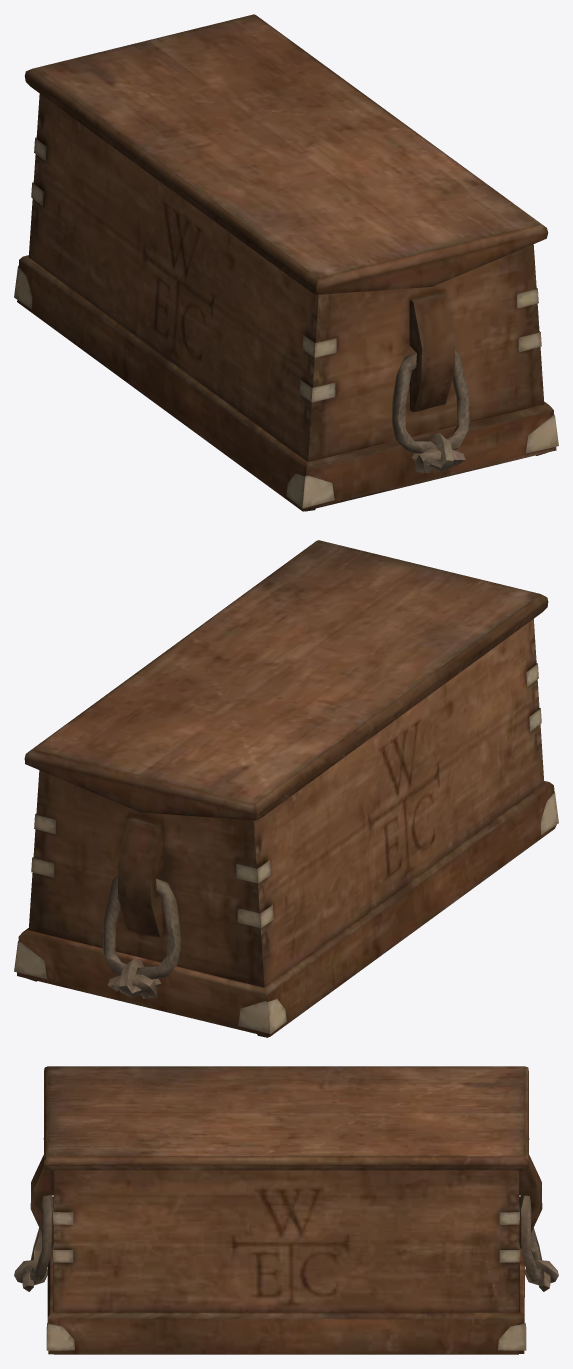
The model's file is crate_b.glb.
3 views of the same model, one above another, from view 1: azimuth 30°, elevation 25°; view 2: azimuth 150°, elevation 25°; view 3: azimuth 270°, elevation 25° (orthographic). The views are drawn at different scales.
Visible parts, largest first — view 1: crate_b; view 2: crate_b; view 3: crate_b.
Part boxes in pixels (<box>): crate_b: <box>14,14,558,511</box>; crate_b: <box>14,540,558,1037</box>; crate_b: <box>14,1066,558,1354</box>.
Bounding box in the file's own units: 0.5274 × 0.4618 × 1.17.
1 material, 1 textured.
